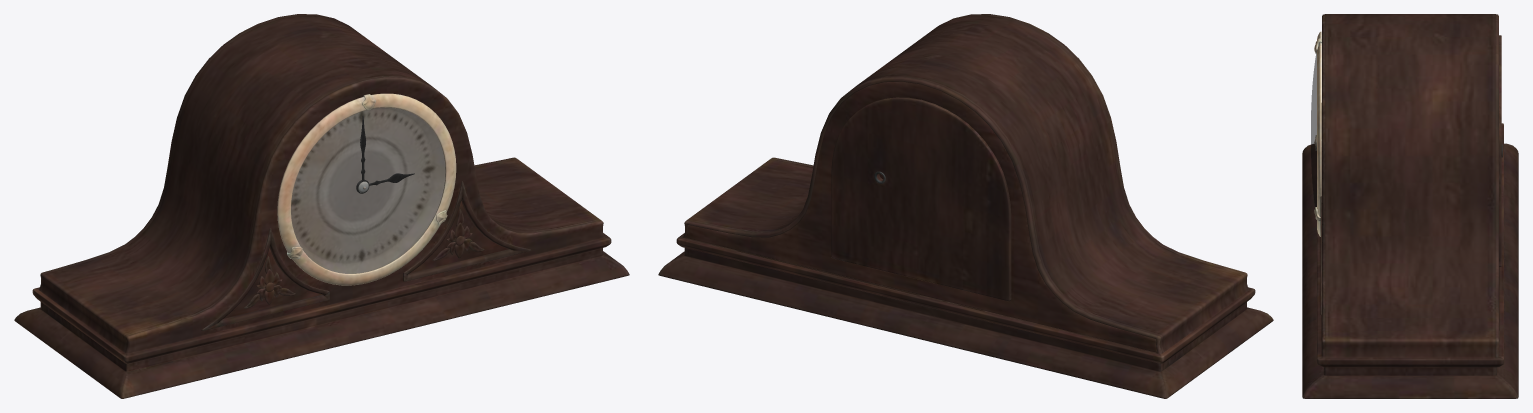
File: mantel_clock_01.glb
3 views of the same model, side by side, from view 1: azimuth 30°, elevation 25°; view 2: azimuth 150°, elevation 25°; view 3: azimuth 270°, elevation 25° (orthographic).
Parts seen in each view (by area): view 1: mantel_clock_01, mantel_clock_01_glass; view 2: mantel_clock_01; view 3: mantel_clock_01, mantel_clock_01_glass.
Part boxes in pixels (bbox=[...]): mantel_clock_01: bbox=[14, 14, 629, 398]; mantel_clock_01_glass: bbox=[291, 107, 445, 273]; mantel_clock_01: bbox=[658, 14, 1273, 398]; mantel_clock_01: bbox=[1302, 14, 1518, 398]; mantel_clock_01_glass: bbox=[1311, 53, 1316, 207].
Bounding box in the file's own units: 0.3423 × 0.1605 × 0.1262.
2 materials, 2 textured.
